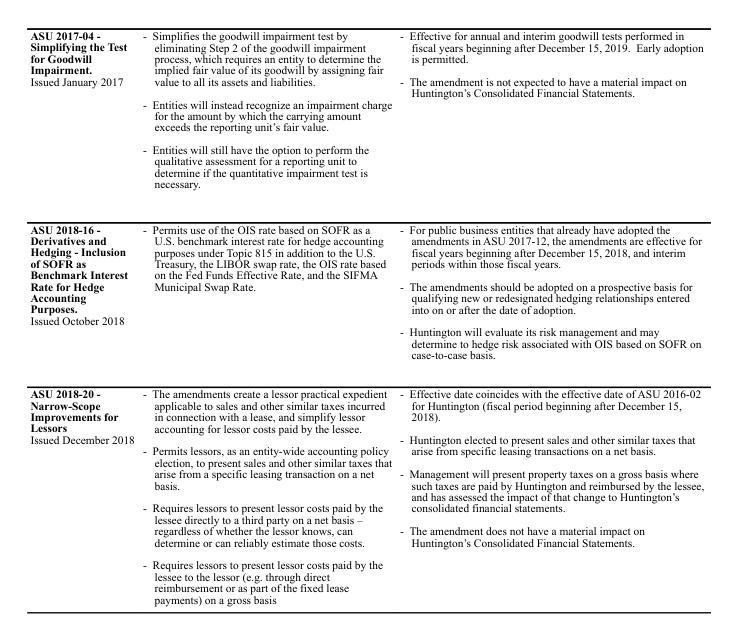table: (29, 28, 703, 605)
table column: (395, 28, 703, 605), (137, 28, 395, 605), (29, 28, 137, 605)
table column header: (29, 28, 703, 206)
table row: (29, 373, 703, 605), (29, 28, 703, 206), (29, 206, 703, 373)
